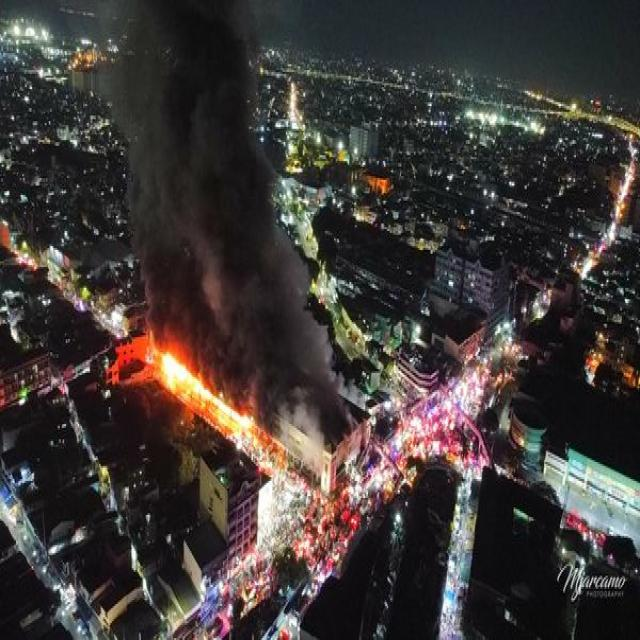Fire: (158, 347, 250, 425)
Smoke: (128, 0, 354, 441)
